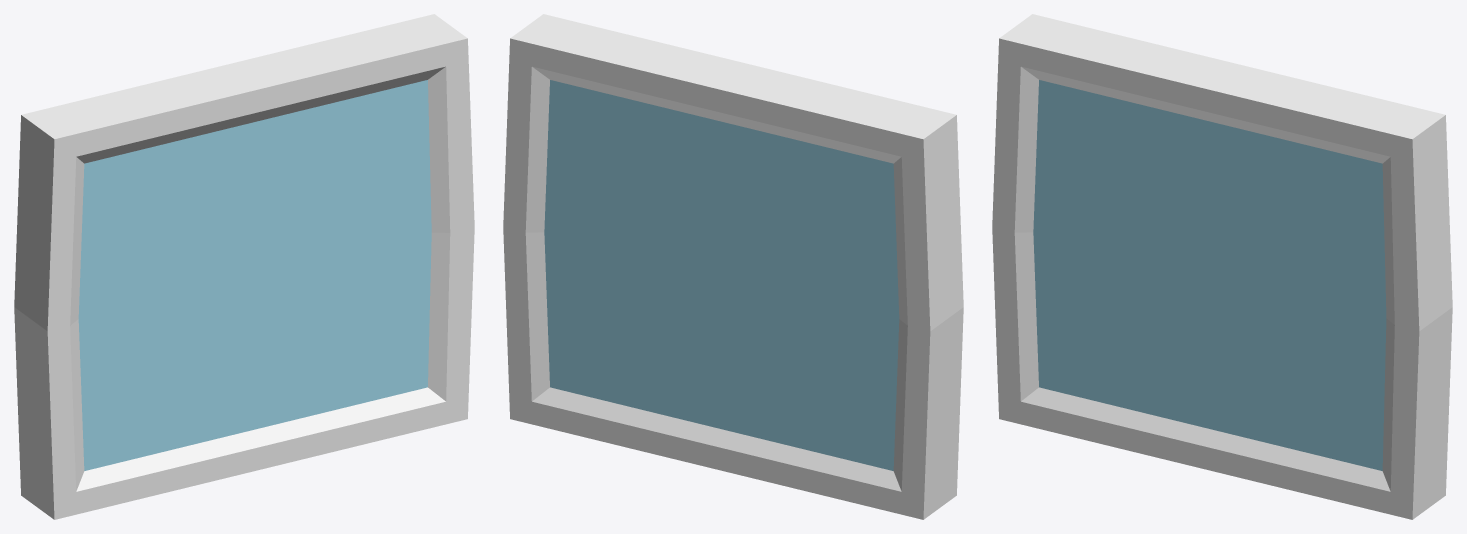
File: Sign_03.fbx
3 views of the same model, side by side, from view 1: azimuth 30°, elevation 25°; view 2: azimuth 150°, elevation 25°; view 3: azimuth 330°, elevation 25° (orthographic).
Visible parts, largest first — view 1: Sign_03; view 2: Sign_03; view 3: Sign_03.
Boxes of the visible parts, <box> form: Sign_03: <box>14,14,474,519</box>; Sign_03: <box>503,14,963,519</box>; Sign_03: <box>992,14,1452,519</box>.
Size of the model in its own units: 970 by 826 by 131.
